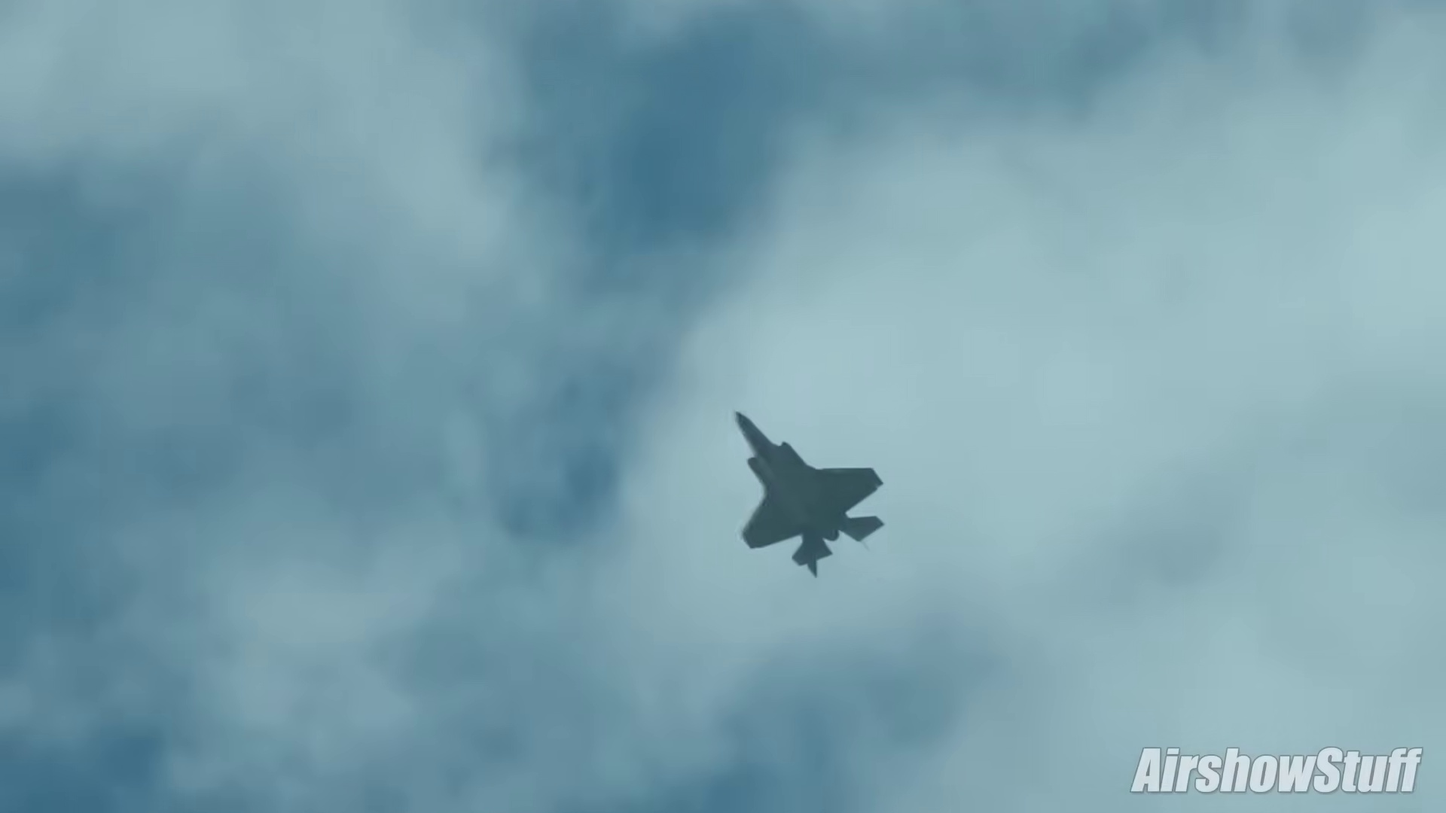F35: (717, 400, 896, 587)
